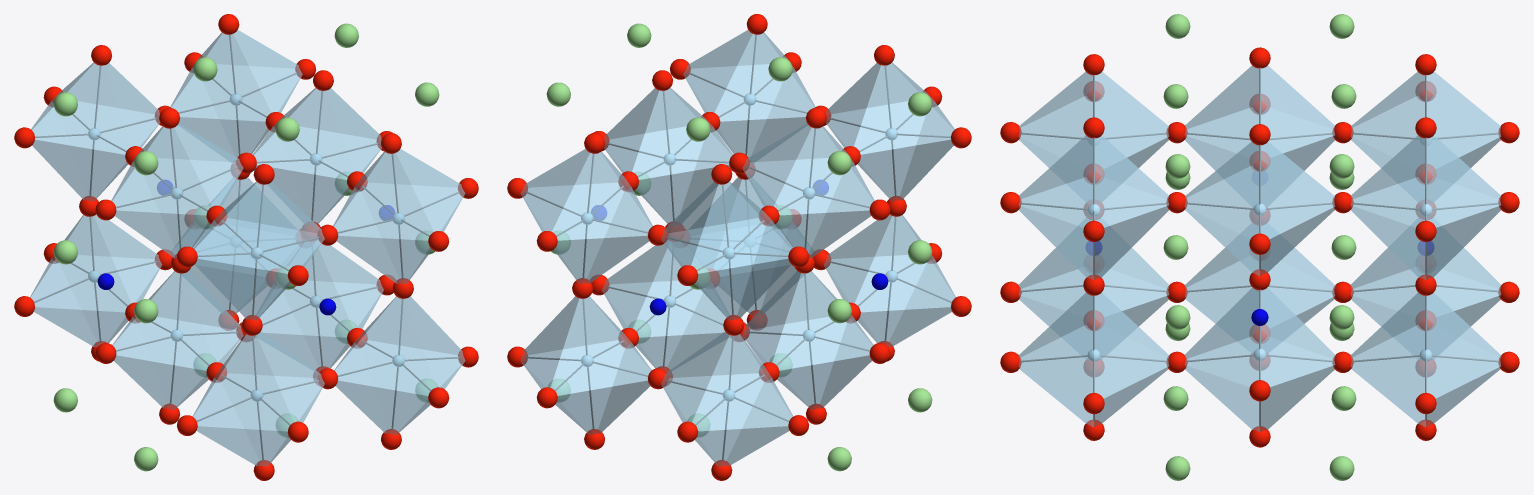
The model's file is LLTO.glb.
3 views of the same model, side by side, from view 1: azimuth 30°, elevation 25°; view 2: azimuth 150°, elevation 25°; view 3: azimuth 270°, elevation 25° (orthographic). The views are drawn at different scales.
Visible parts, largest first — view 1: Shape_IndexedFaceSet, atom4_IndexedFaceSet, atom0_IndexedFaceSet, Shape_Cylinder, atom2_IndexedFaceSet, atom3_IndexedFaceSet; view 2: Shape_IndexedFaceSet, atom4_IndexedFaceSet, atom0_IndexedFaceSet, Shape_Cylinder, atom2_IndexedFaceSet, atom3_IndexedFaceSet; view 3: Shape_IndexedFaceSet, atom4_IndexedFaceSet, atom0_IndexedFaceSet, Shape_Cylinder, atom2_IndexedFaceSet, atom3_IndexedFaceSet.
Boxes of the visible parts, x1,y1,x2,y2 form: Shape_IndexedFaceSet: (30, 30, 465, 466); atom4_IndexedFaceSet: (14, 14, 478, 480); atom0_IndexedFaceSet: (53, 23, 439, 471); Shape_Cylinder: (34, 35, 459, 461); atom2_IndexedFaceSet: (88, 93, 404, 401); atom3_IndexedFaceSet: (97, 180, 394, 315); Shape_IndexedFaceSet: (520, 30, 955, 466); atom4_IndexedFaceSet: (507, 14, 971, 480); atom0_IndexedFaceSet: (546, 23, 932, 471); Shape_Cylinder: (526, 35, 951, 461); atom2_IndexedFaceSet: (581, 93, 897, 401); atom3_IndexedFaceSet: (591, 180, 888, 315); Shape_IndexedFaceSet: (1018, 65, 1501, 431); atom4_IndexedFaceSet: (1000, 47, 1519, 447); atom0_IndexedFaceSet: (1163, 14, 1356, 480); Shape_Cylinder: (1021, 69, 1498, 426); atom2_IndexedFaceSet: (1087, 203, 1432, 361); atom3_IndexedFaceSet: (1086, 241, 1433, 325).
Bounding box in the file's own units: 8.32 × 8.37 × 12.14.
